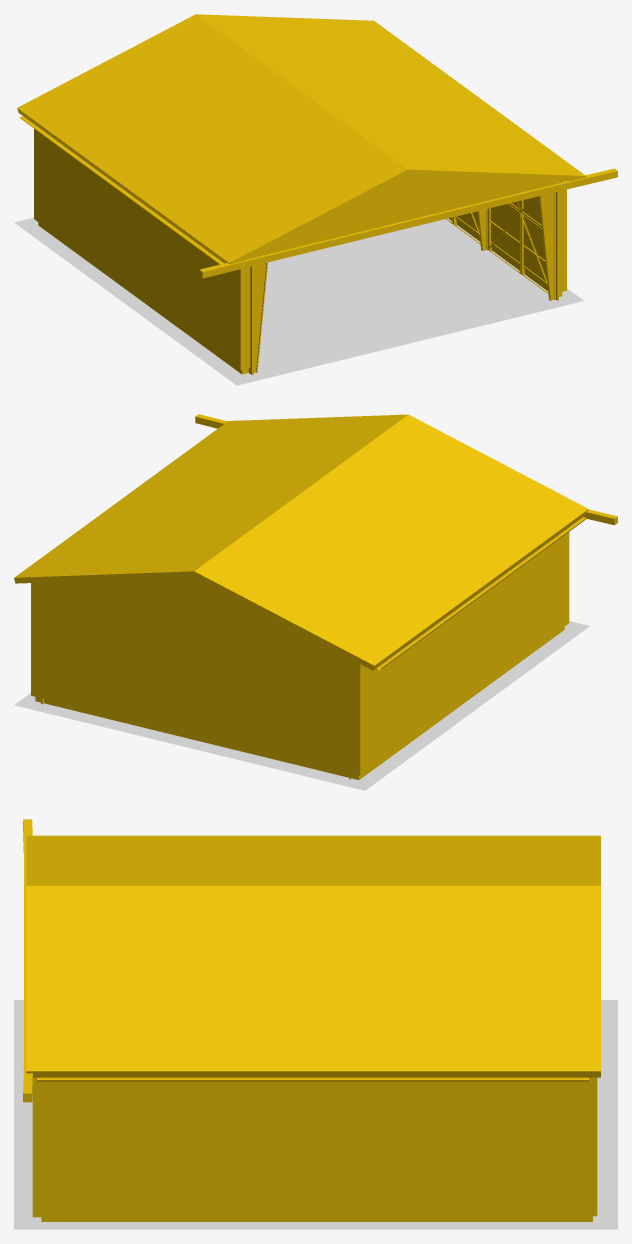
The model's file is garage_v1.glb.
3 renders of one model, top to bottom at view 1: azimuth 30°, elevation 25°; view 2: azimuth 150°, elevation 25°; view 3: azimuth 270°, elevation 25°, orthographic. The views are drawn at different scales.
Visible parts, largest first — view 1: AirHangar, Plane; view 2: AirHangar, Plane; view 3: AirHangar, Plane.
Part boxes in pixels (left/top/right/bottom): AirHangar: left=17, top=14, right=617, bottom=375; Plane: left=14, top=217, right=583, bottom=385; AirHangar: left=14, top=414, right=617, bottom=779; Plane: left=14, top=621, right=589, bottom=790; AirHangar: left=23, top=819, right=600, bottom=1221; Plane: left=14, top=1000, right=617, bottom=1229.
Bounding box in the file's own units: 21.5 × 8.41 × 20.
